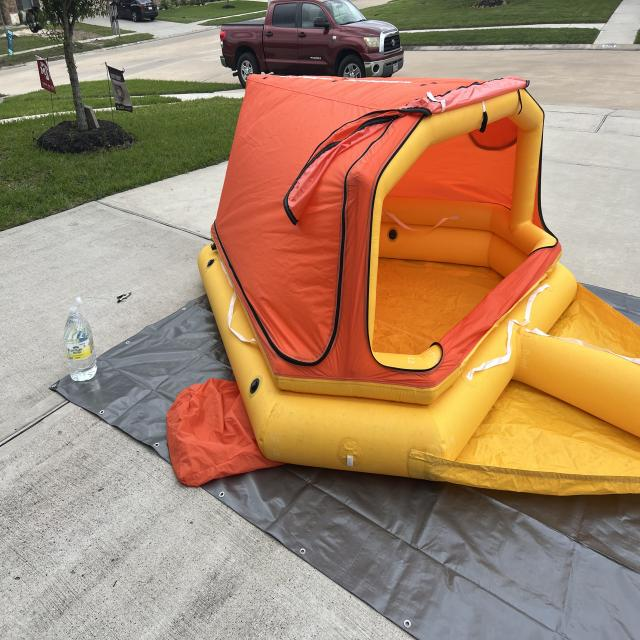Multi-person_life_raft: (165, 71, 640, 494)
